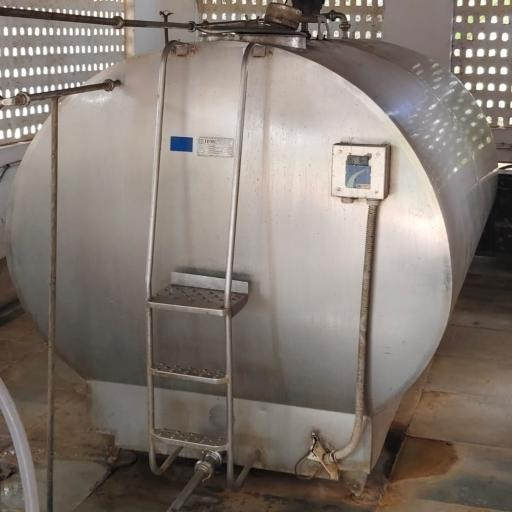silo: (6, 26, 500, 481)
